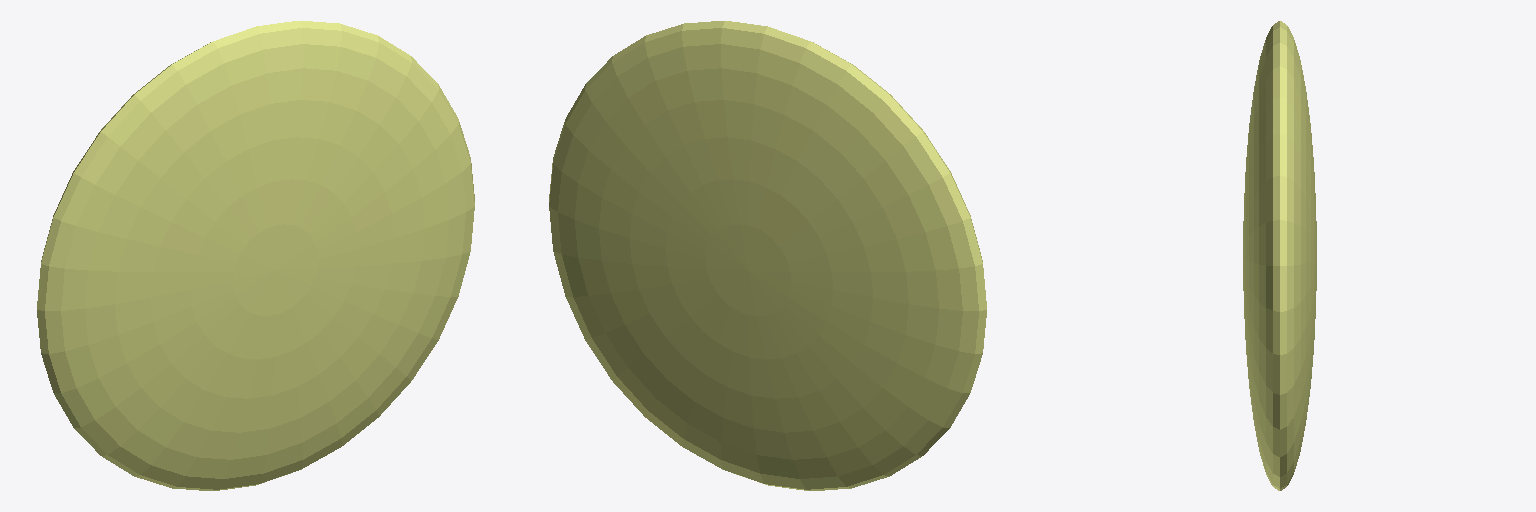
robot.urdf — bowl:
<?xml version="1.0" ?>
<robot name="bowl"> 
    <link name="bowl">
        <visual>
            <origin xyz="0 0 0"/>
            <geometry>
                <mesh filename="meshes/bowl_update.obj" scale="0.1 0.1 0.1"/>
            </geometry>
        </visual>
        <collision>
            <origin xyz="0 0 0"/>
            <geometry>
                <mesh filename="meshes/bowl_update.obj" scale="0.1 0.1 0.1"/>
            </geometry>
        </collision>
        <inertial>
            <mass value="1"/> 
            <inertia ixx="0.0001" ixy="0.0" ixz="0.0" iyy="0.0001" iyz="0.0" izz="0.0001"/>
        </inertial>
    </link>
    <link name="tofu">
        <visual>
            <geometry>
                <mesh filename="meshes/tofu.obj" scale="0.1 0.1 0.1"/>
            </geometry>
            <material name="tofu_color">
                <color rgba="0.890 0.910 0.576 0.8"/>
            </material>

        </visual>
        <inertial>
            <mass value="0.00001"/> 
            <inertia ixx="0.0001" ixy="0.0" ixz="0.0" iyy="0.0001" iyz="0.0" izz="0.0001"/>
        </inertial>
    </link>
    <joint name="tofu_to_bowl" type="fixed">
        <parent link="bowl"/>
        <child link="tofu"/>
        <origin xyz="0 0 0" rpy="0 0 0"/>  <!-- No offset, both origins are the same -->
    </joint>

</robot>
        

--- Render facts (derived) ---
3 views of the same robot in one strip: view 1: azimuth 30°, elevation 25°; view 2: azimuth 150°, elevation 25°; view 3: azimuth 270°, elevation 25° (orthographic).
Model bowl with 2 links and 1 joints (1 fixed), rooted at bowl, posed all joints at 0.
Visible links, largest first — view 1: tofu; view 2: tofu; view 3: tofu.
Link boxes in pixels (x1,y1,x2,y2): tofu: (37, 21, 474, 490); tofu: (549, 21, 986, 490); tofu: (1243, 21, 1316, 490).
Size in the robot's own frame: 0.28 by 0.044 by 0.28 metres.
1 mesh visuals loaded from 2 distinct referenced files (1 OBJ); not drawn: 1 (reference not matched to a file when rendering).